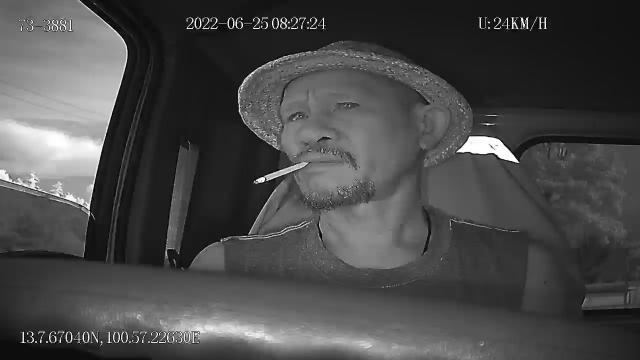SafeDriving: (328, 93, 365, 115), (282, 103, 312, 125)
Smoking: (252, 160, 312, 186)
